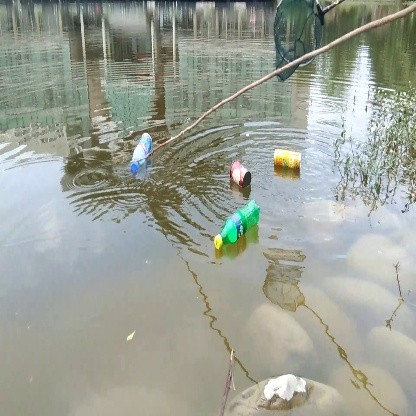bottle: (209, 200, 263, 252), (129, 131, 154, 174), (270, 146, 304, 172), (227, 159, 255, 190)
